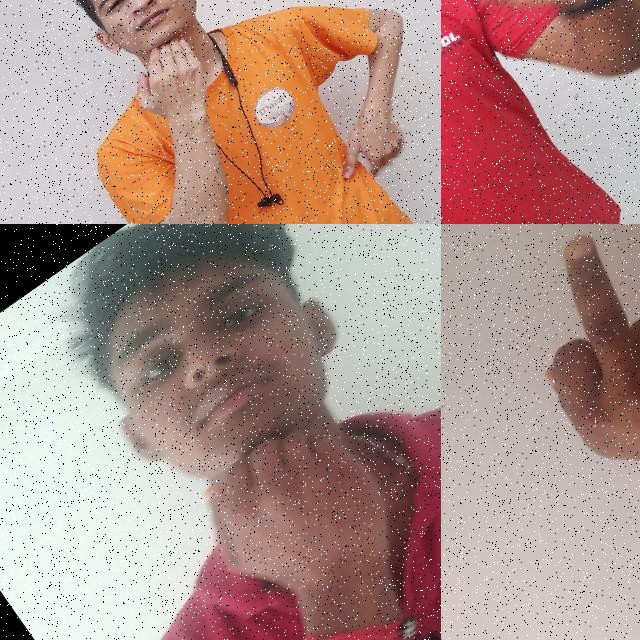Chin Flick: (8, 224, 441, 640), (38, 0, 285, 152)
Middle Finger: (476, 224, 640, 538)
Okay: (441, 0, 640, 64)
